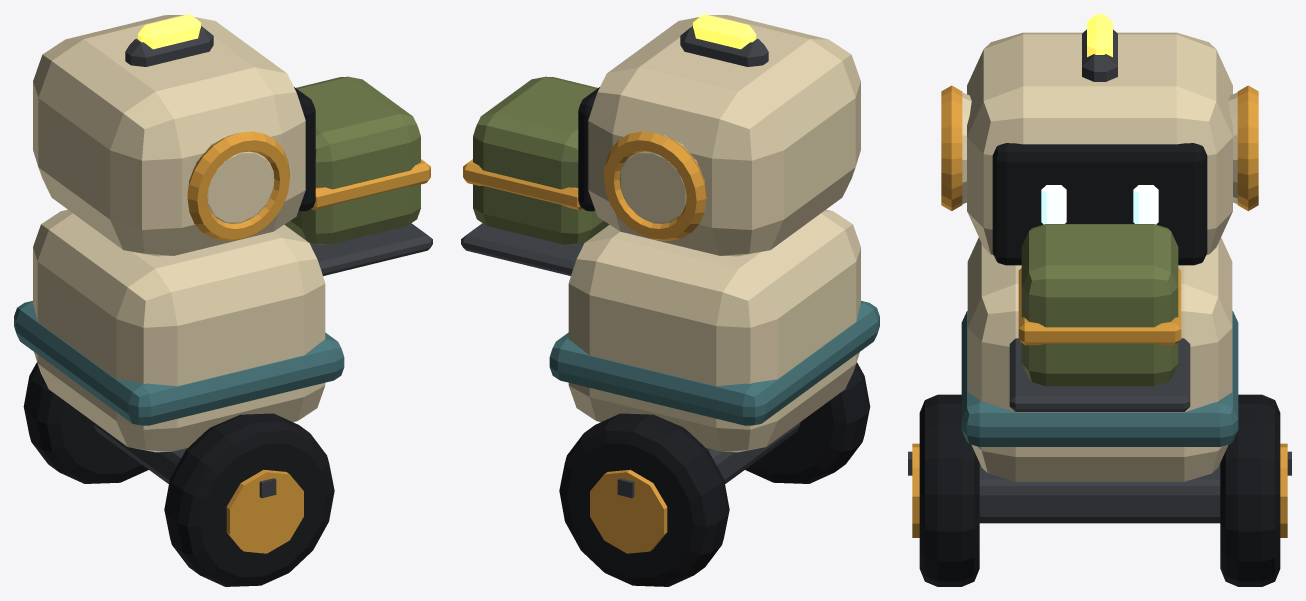
Rendered from porter.glb.
The picture shows the model from 3 angles, left to right: view 1: azimuth 30°, elevation 25°; view 2: azimuth 150°, elevation 25°; view 3: azimuth 270°, elevation 25°; orthographic projection. The views are drawn at different scales.
Parts seen in each view (by area): view 1: torso body, head body, wheel_r body, wheel_l body, axle; view 2: torso body, head body, wheel_l body, wheel_r body, axle; view 3: torso body, head body, wheel_l body, wheel_r body, axle, eye, eye.001.
Boxes of the visible parts, <box> form: torso body: <box>14,76,432,452</box>; head body: <box>33,14,315,256</box>; wheel_r body: <box>164,413,334,586</box>; wheel_l body: <box>23,362,148,483</box>; axle: <box>93,422,187,483</box>; torso body: <box>461,76,879,452</box>; head body: <box>578,14,860,256</box>; wheel_l body: <box>559,413,729,586</box>; wheel_r body: <box>745,362,870,483</box>; axle: <box>706,422,800,483</box>; torso body: <box>961,224,1238,481</box>; head body: <box>941,14,1258,265</box>; wheel_l body: <box>1220,394,1291,586</box>; wheel_r body: <box>908,394,979,586</box>; axle: <box>979,463,1220,523</box>; eye: <box>1041,185,1066,224</box>; eye.001: <box>1133,185,1158,224</box>.
Bounding box in the file's own units: 0.665 × 1 × 0.638.
